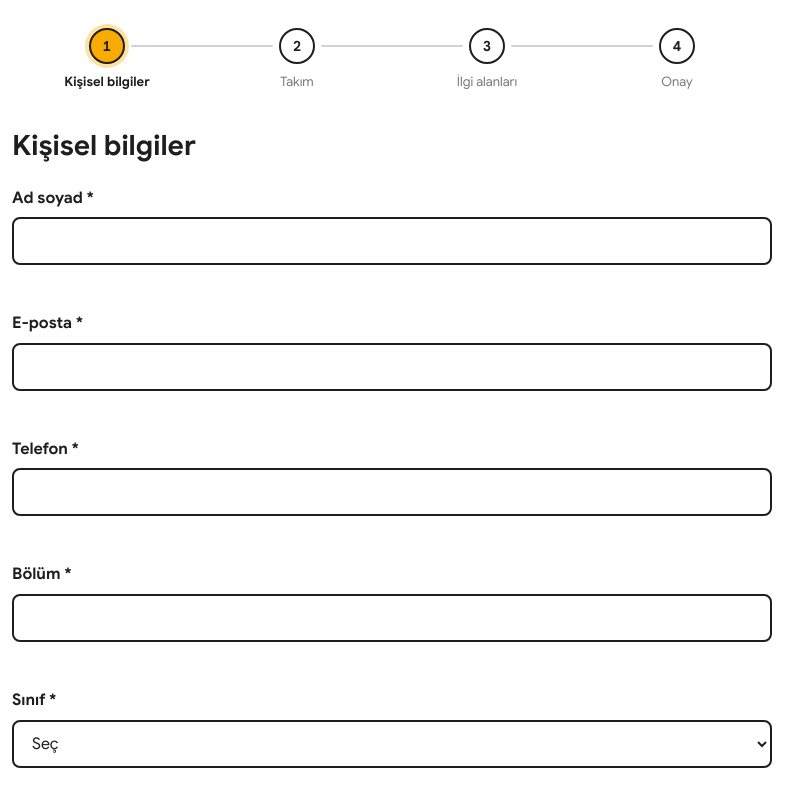
Test: StepForm › geri dönüldüğünde girilen veri korunur
Step 1. Type "Ayşe Yılmaz" into the field labelled "Ad soyad" → (392, 241), box [12,217,772,265]
Step 2. Type "ayse@example.com" into the field labelled "E-posta" → (392, 367), box [12,343,772,391]
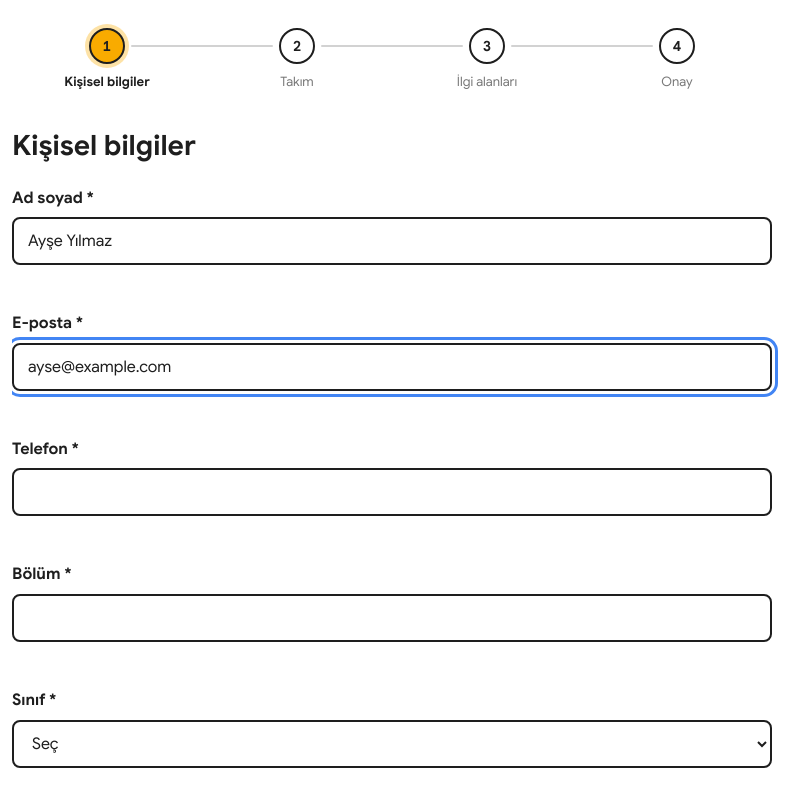
Step 3. Type "0555 123 45 67" into the field labelled "Telefon" → (392, 492), box [12,468,772,516]
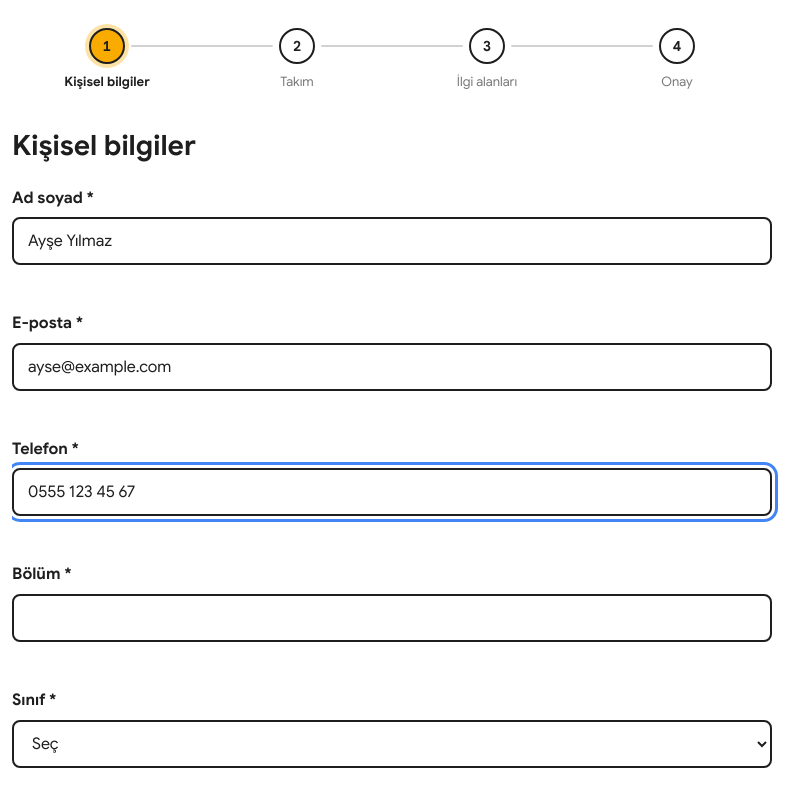
Step 4. Type "Bilgisayar Mühendisliği" into the field labelled "Bölüm" → (392, 618), box [12,594,772,642]
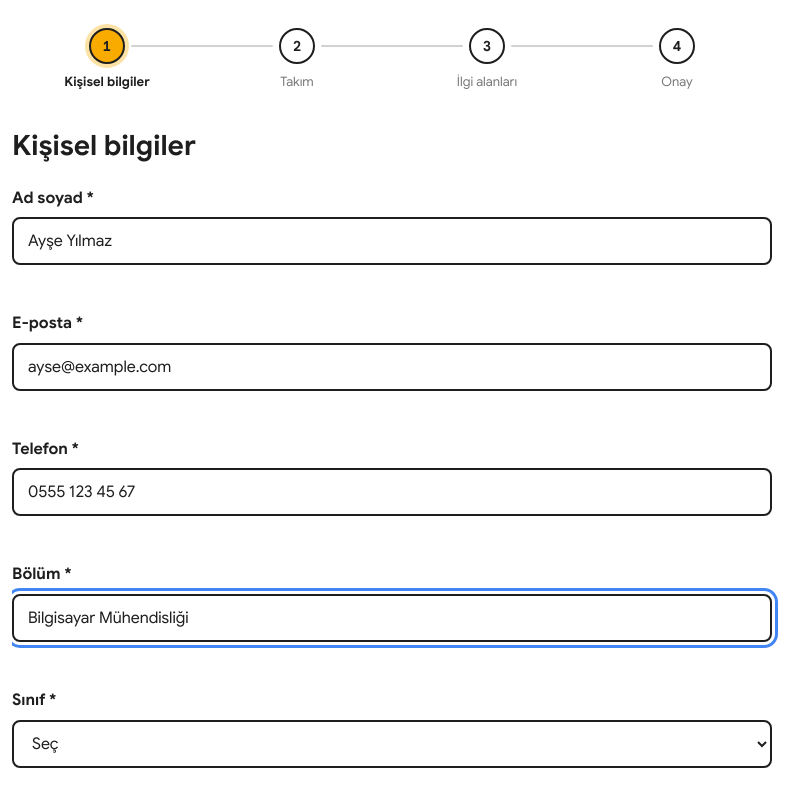
Step 5. Select "2. sınıf" in the dropdown labelled "Sınıf" → (392, 744), box [12,720,772,768]
(page scrolled)
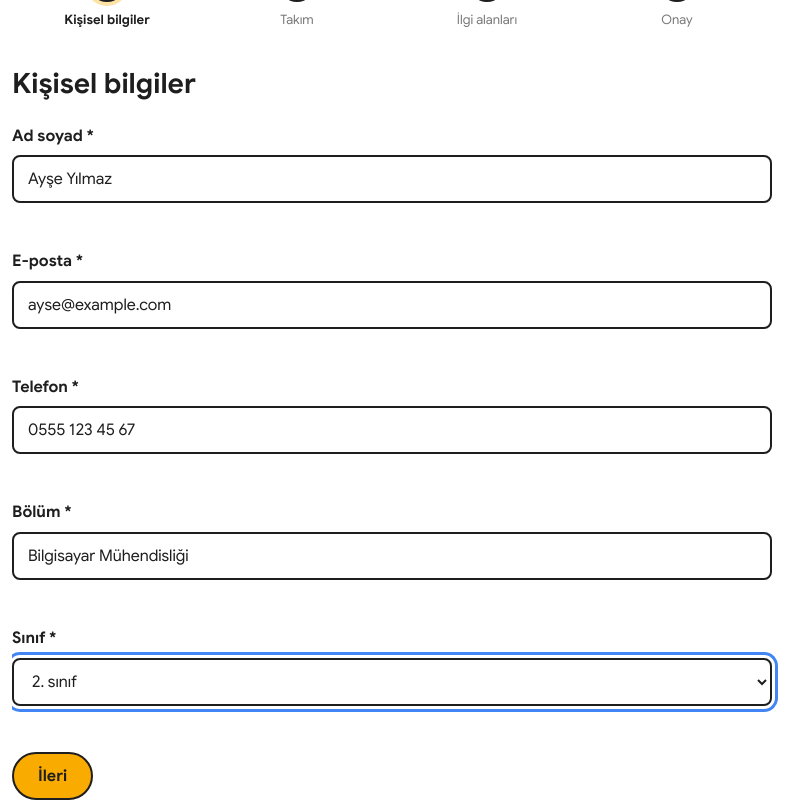
Step 6. Click the button "İleri" → (53, 776), box [12,752,93,799]
(page scrolled)
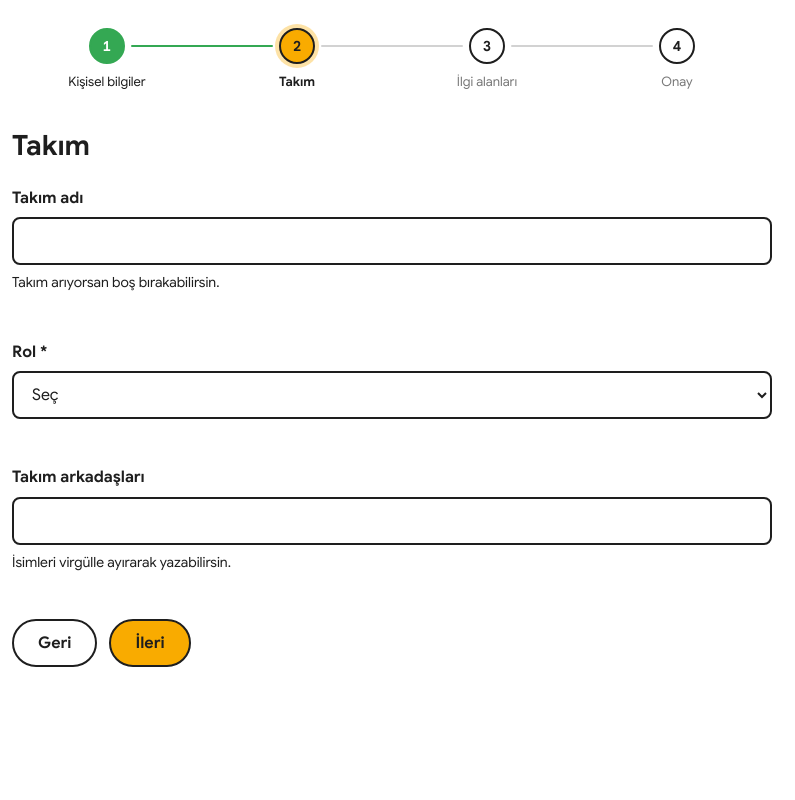
Expected: the heading "Takım" is shown, [12,128,90,163]
Step 7. Click the button "Geri" → (55, 643), box [12,619,98,667]
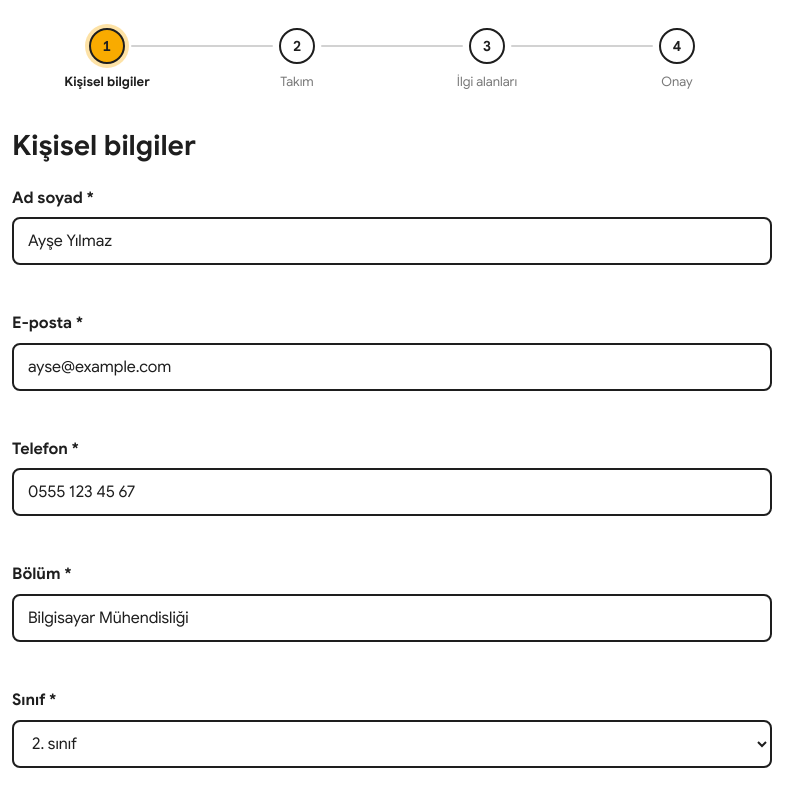
Expected: the field labelled "Ad soyad" holds "Ayşe Yılmaz", [12,217,772,265]
Expected: the dropdown labelled "Sınıf" shows "2. sınıf", [12,720,772,768]
